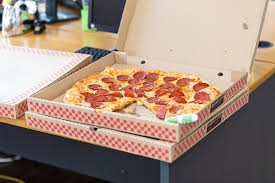kitchen_waste: (62, 60, 222, 121)
paper: (23, 97, 197, 161), (1, 35, 91, 130)
